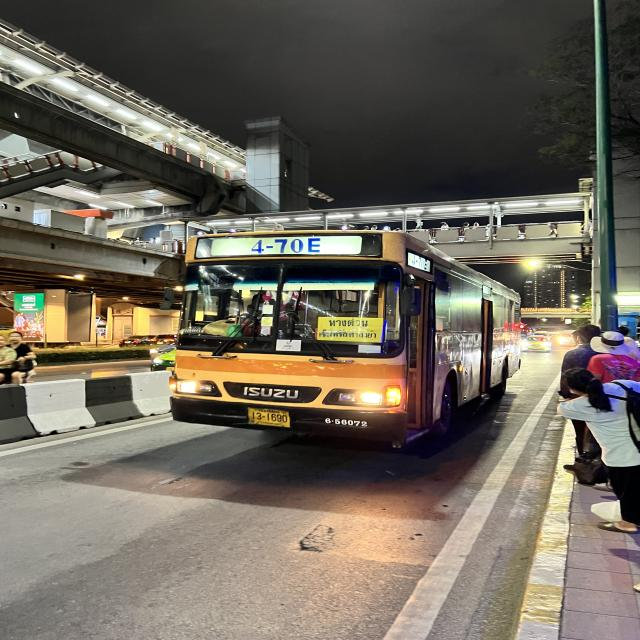BMTA-bus: (167, 227, 522, 451)
Bus Line Number: (239, 238, 334, 254)
Bus Side Number: (319, 414, 378, 429)
Destination Sign: (316, 315, 388, 343)
